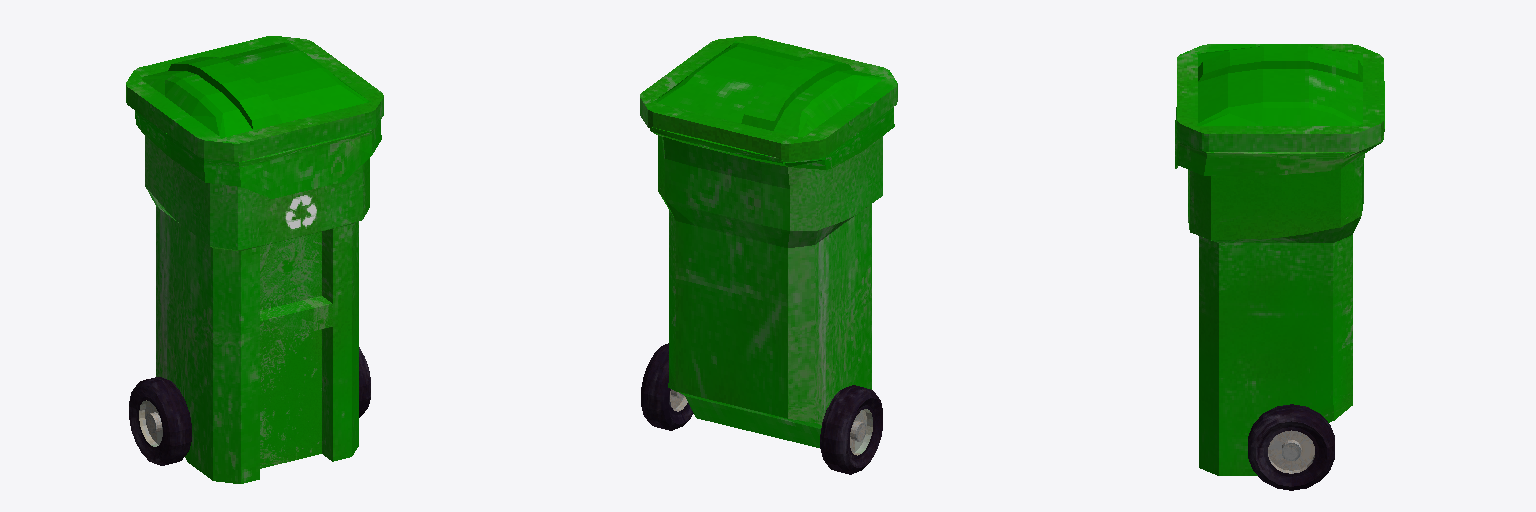
3 views of the same model, side by side, from view 1: azimuth 30°, elevation 25°; view 2: azimuth 150°, elevation 25°; view 3: azimuth 270°, elevation 25° (orthographic).
Visible parts, largest first — view 1: RecyclingBin; view 2: RecyclingBin; view 3: RecyclingBin.
Boxes of the visible parts, x1=… form: RecyclingBin: x1=126, y1=36, x2=383, y2=483; RecyclingBin: x1=640, y1=36, x2=897, y2=474; RecyclingBin: x1=1175, y1=44, x2=1384, y2=490.
Size of the model in its own units: 53.42 by 92.85 by 47.21.
Materials: 1 (1 with a texture image).